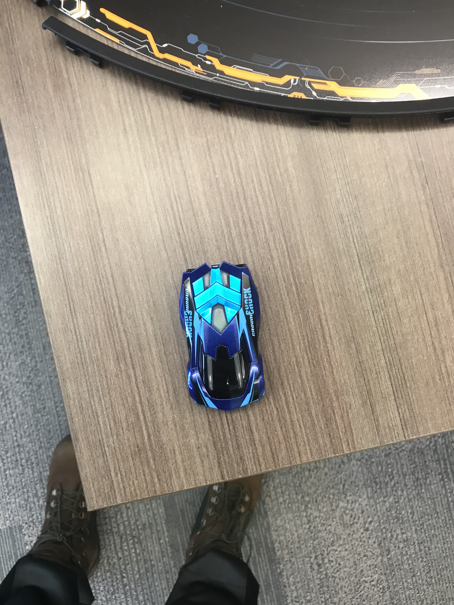Shock: (178, 260, 268, 413)
